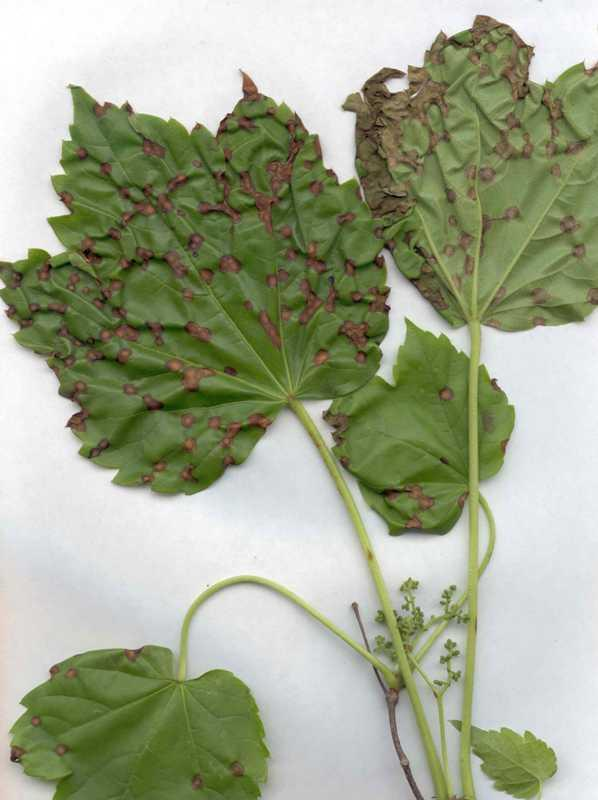grape leaf: (1, 61, 387, 500), (342, 13, 598, 331), (323, 318, 519, 553), (5, 637, 278, 800)
